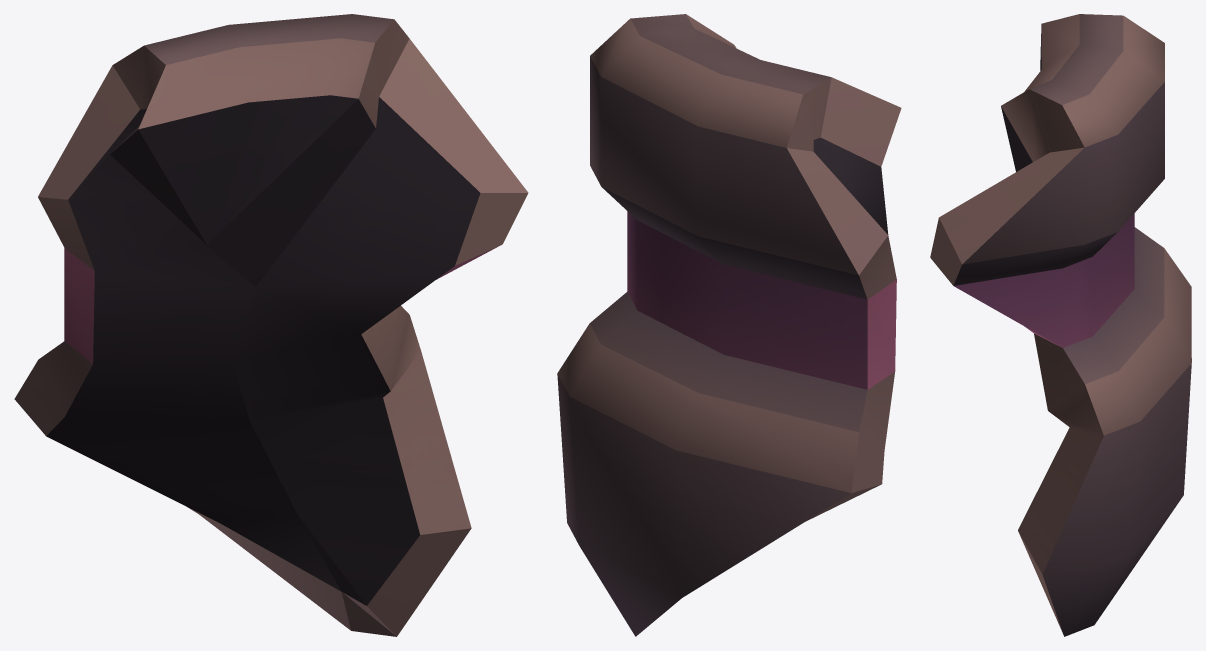
File: pot_2_shard_1.fbx
The picture shows the model from 3 angles, left to right: view 1: azimuth 30°, elevation 25°; view 2: azimuth 150°, elevation 25°; view 3: azimuth 270°, elevation 25°; orthographic projection. The views are drawn at different scales.
Visible parts, largest first — view 1: pot_2_shard_1; view 2: pot_2_shard_1; view 3: pot_2_shard_1.
Boxes of the visible parts, x1,y1,x2,y2 form: pot_2_shard_1: (14, 14, 528, 636); pot_2_shard_1: (557, 14, 901, 636); pot_2_shard_1: (930, 14, 1191, 636).
Size of the model in its own units: 45.53 by 70.91 by 31.71.
